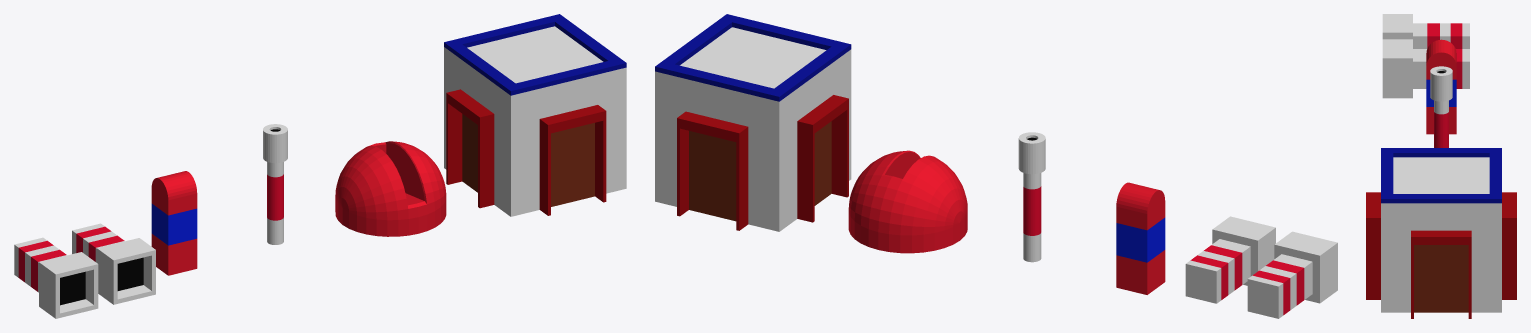
The model's file is Turrets.fbx.
3 views of the same model, side by side, from view 1: azimuth 30°, elevation 25°; view 2: azimuth 150°, elevation 25°; view 3: azimuth 270°, elevation 25° (orthographic). The views are drawn at different scales.
Parts seen in each view (by area): view 1: TurretBuildingModel, AAPods, TurretBaseModel, AAPodBase, TurretBarrelModel; view 2: TurretBuildingModel, AAPods, TurretBaseModel, AAPodBase, TurretBarrelModel; view 3: TurretBuildingModel, AAPods, AAPodBase, TurretBarrelModel.
Boxes of the visible parts, x1=… form: TurretBuildingModel: x1=444, y1=14, x2=626, y2=216; AAPods: x1=14, y1=223, x2=155, y2=318; TurretBaseModel: x1=335, y1=141, x2=446, y2=236; AAPodBase: x1=151, y1=171, x2=197, y2=275; TurretBarrelModel: x1=263, y1=124, x2=287, y2=244; TurretBuildingModel: x1=655, y1=14, x2=851, y2=231; AAPods: x1=1185, y1=216, x2=1337, y2=318; TurretBaseModel: x1=848, y1=150, x2=967, y2=253; AAPodBase: x1=1116, y1=182, x2=1165, y2=294; TurretBarrelModel: x1=1018, y1=132, x2=1045, y2=262; TurretBuildingModel: x1=1366, y1=148, x2=1516, y2=318; AAPods: x1=1382, y1=14, x2=1469, y2=98; AAPodBase: x1=1426, y1=39, x2=1456, y2=134; TurretBarrelModel: x1=1430, y1=66, x2=1452, y2=147.
Size of the model in its own units: 4048 by 832 by 1002.
